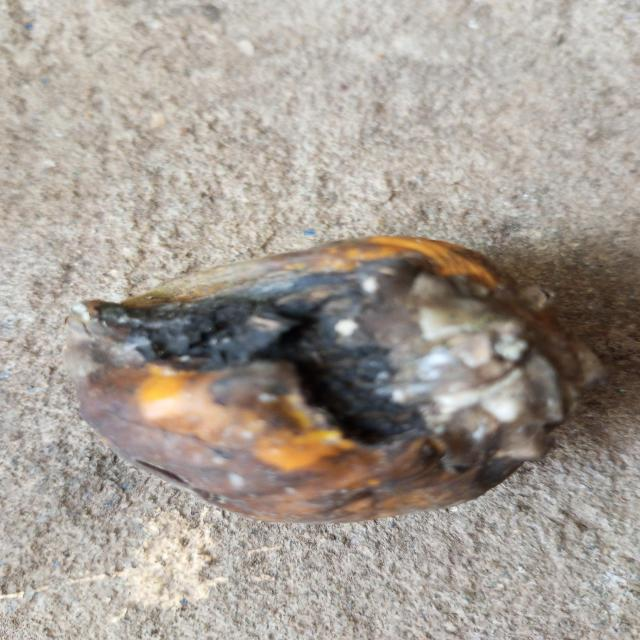damaged: (65, 235, 591, 527)
